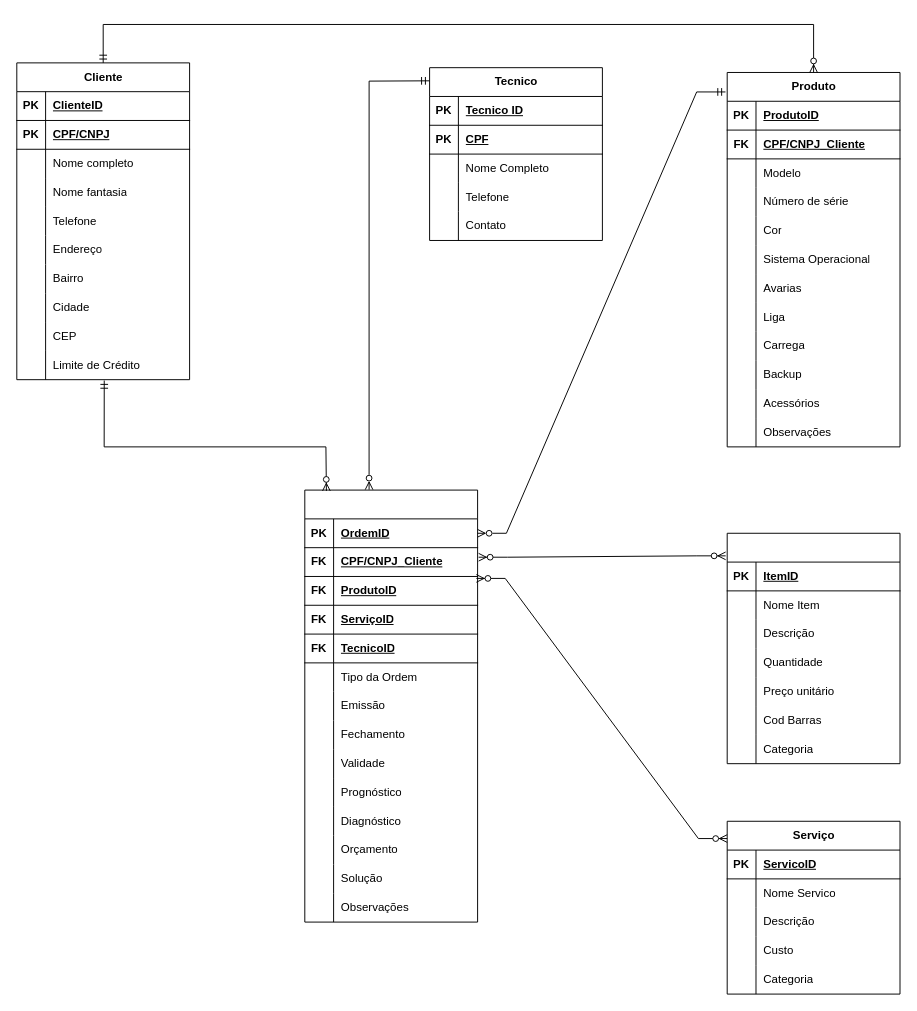
This 917x1011 diagram has some shape labels left out. The box of each missing label's shape, as (x1, y1, x2, y2) in pixels:
Estoque: (726, 532, 900, 764)
Ordem de Serviço: (304, 489, 478, 922)
